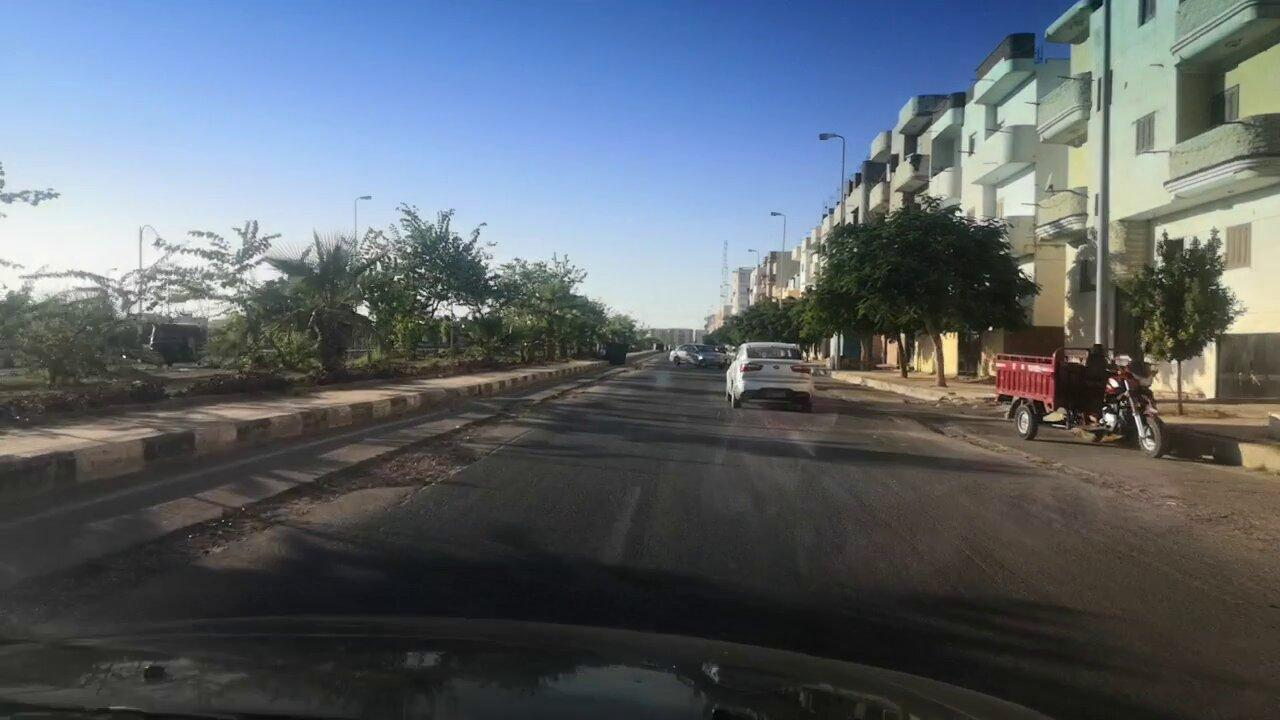Bump: (552, 394, 941, 438)
Pothole: (9, 409, 515, 634), (541, 365, 639, 406)
